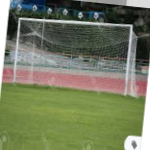goals: (13, 15, 138, 98)
